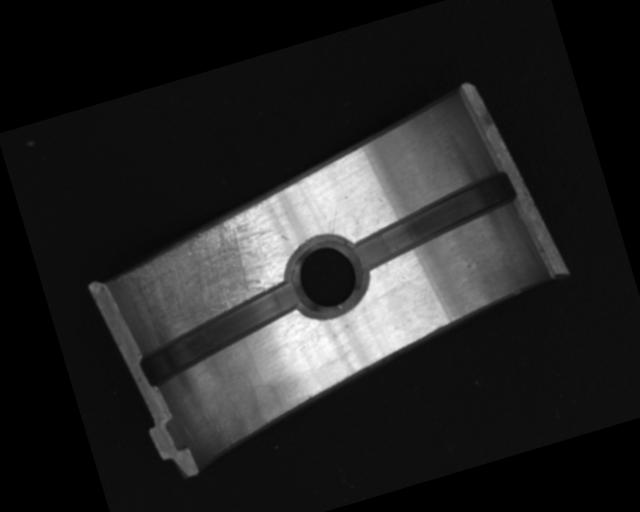gap: (126, 277, 311, 391), (348, 168, 526, 270)
hole: (278, 235, 371, 322)
scratch: (105, 206, 290, 353)
